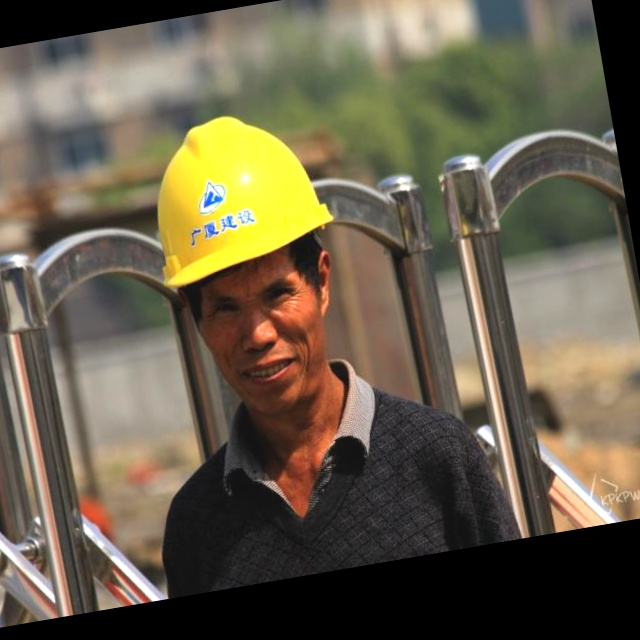Con_Casco: (136, 101, 360, 420)
